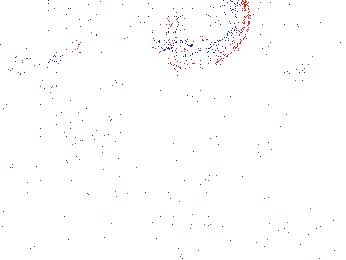moon jellyfish: (140, 1, 251, 71), (267, 1, 346, 74), (23, 1, 103, 68), (92, 1, 147, 82)
